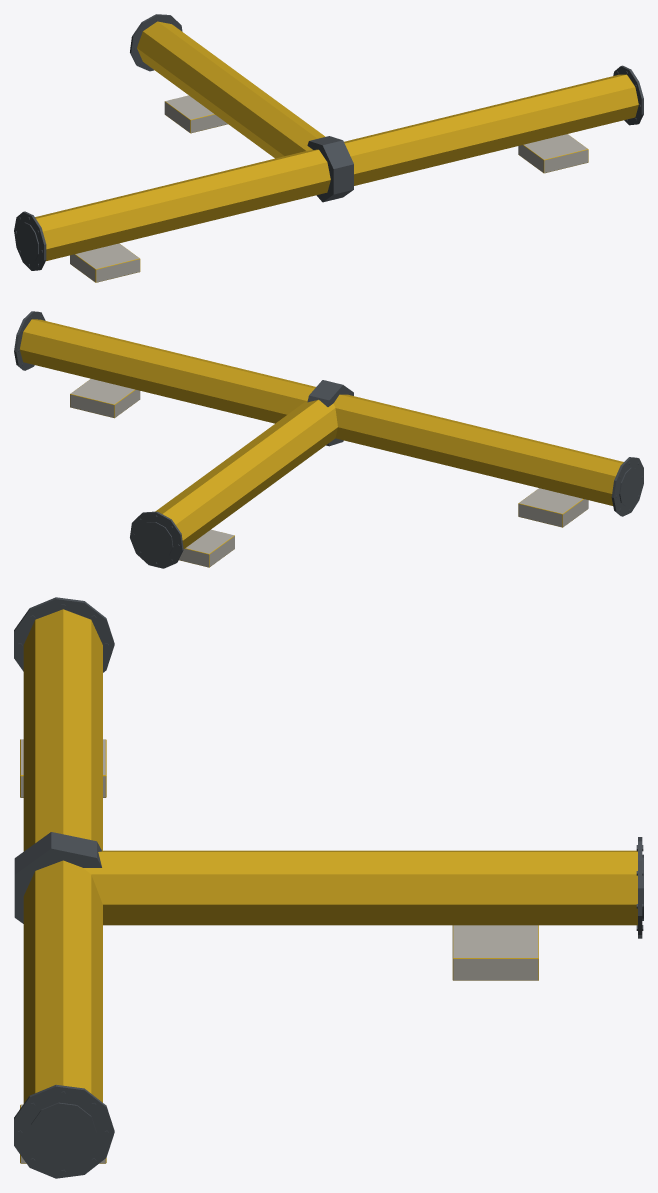
Rendered from gam_pipe_tee.glb.
The picture shows the model from 3 angles, top to bottom: view 1: azimuth 30°, elevation 25°; view 2: azimuth 150°, elevation 25°; view 3: azimuth 270°, elevation 25°; orthographic projection. The views are drawn at different scales.
Parts seen in each view (by area): view 1: gam_pipe_tee; view 2: gam_pipe_tee; view 3: gam_pipe_tee.
Part boxes in pixels (box(x1,y1,x2,y2)): gam_pipe_tee: box(14, 14, 643, 282); gam_pipe_tee: box(14, 311, 643, 568); gam_pipe_tee: box(14, 597, 643, 1178).
Bounding box in the file's own units: 16.11 × 1.88 × 8.74.
